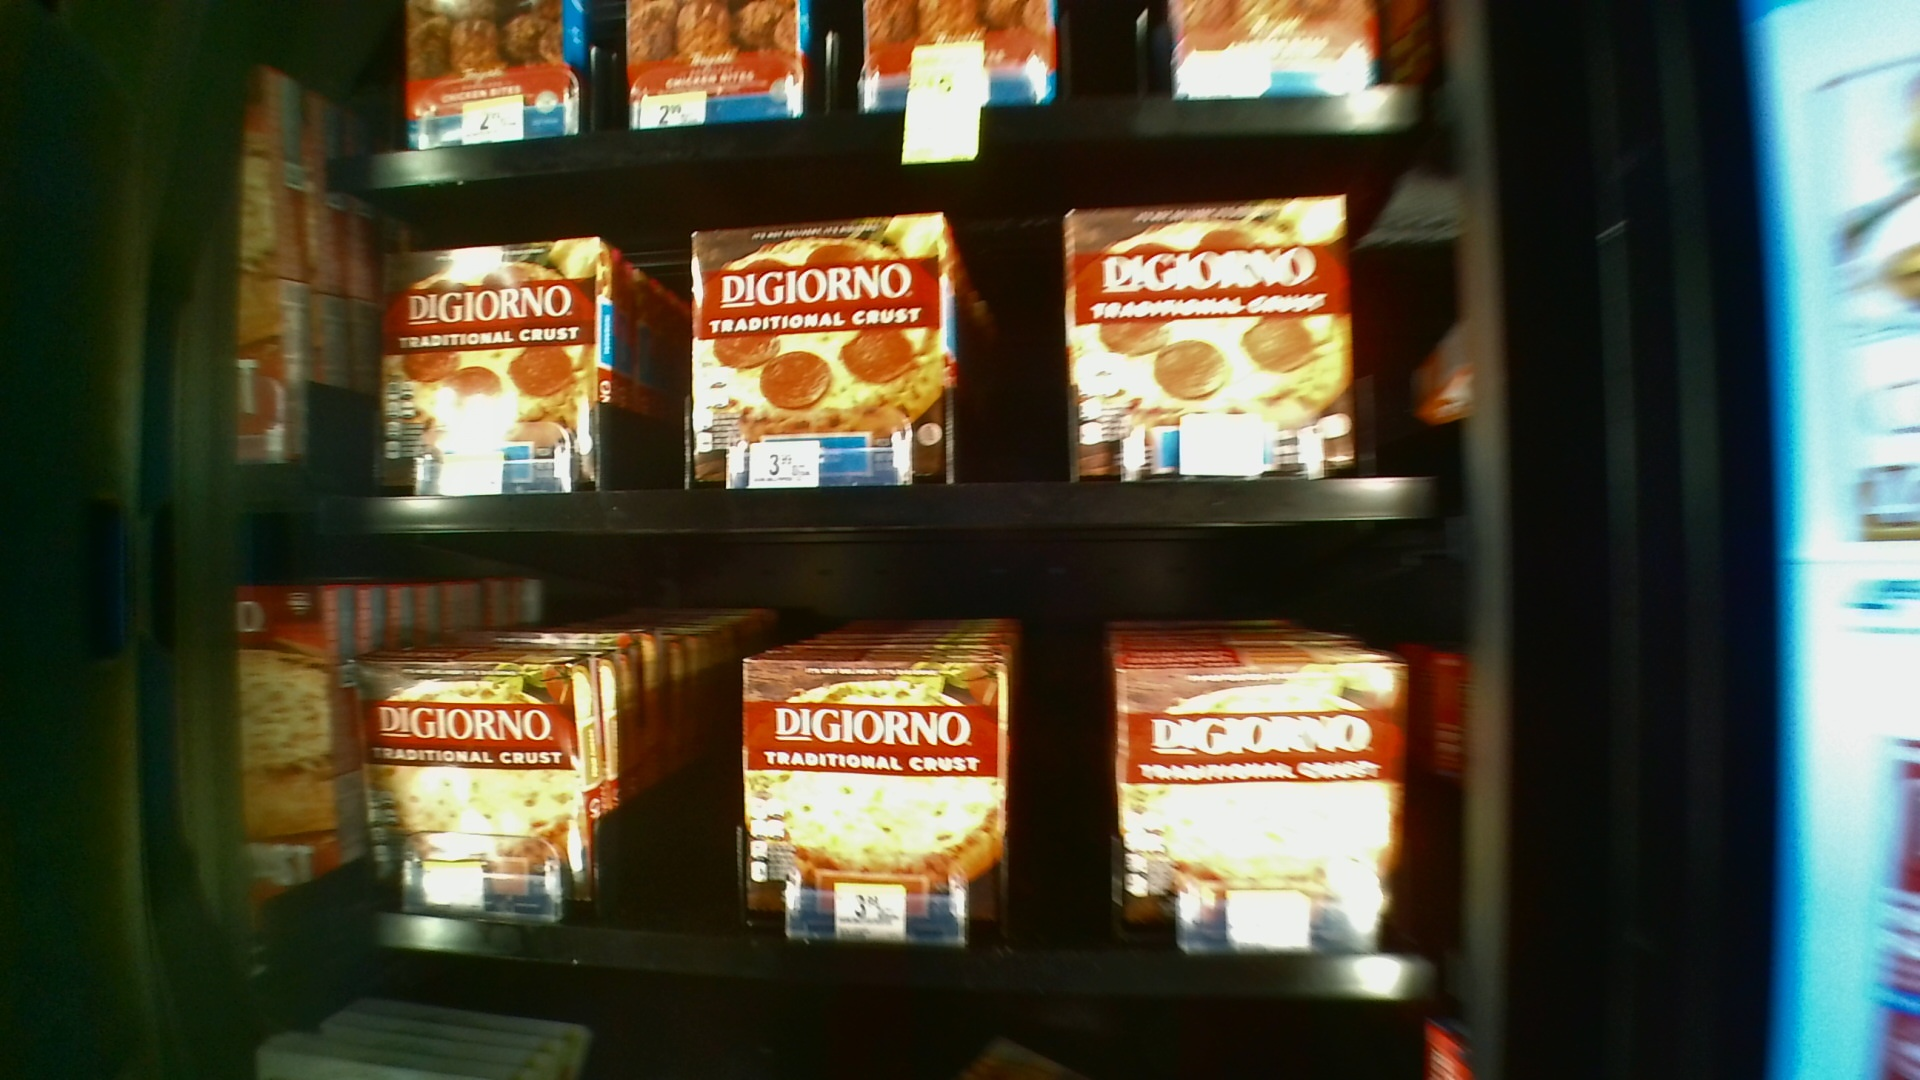shelf: (334, 527, 1451, 1011), (352, 171, 1455, 535)
